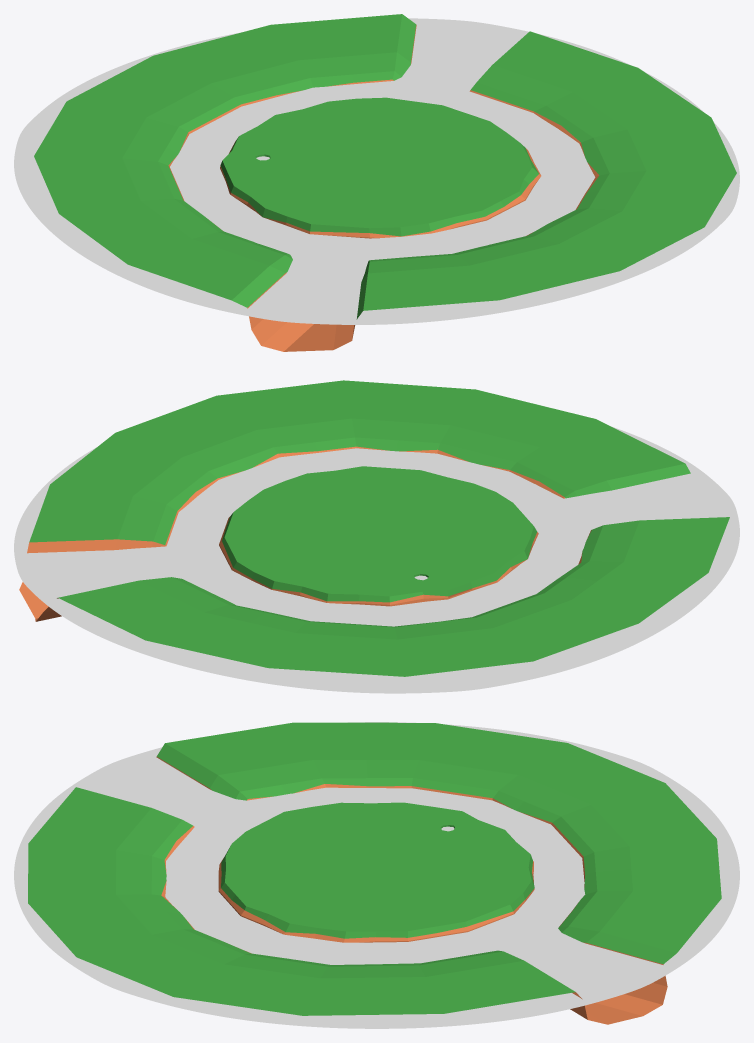
Rendered from World2.fbx.
3 views of the same model, one above another, from view 1: azimuth 30°, elevation 25°; view 2: azimuth 150°, elevation 25°; view 3: azimuth 270°, elevation 25° (orthographic). The views are drawn at different scales.
Parts seen in each view (by area): view 1: Plane.007, Plane.009; view 2: Plane.007, Plane.009; view 3: Plane.007, Plane.009.
Boxes of the visible parts, left/top/right/bottom form: Plane.007: left=34, top=14, right=736, bottom=351; Plane.009: left=14, top=18, right=739, bottom=324; Plane.007: left=19, top=380, right=729, bottom=676; Plane.009: left=14, top=426, right=739, bottom=693; Plane.007: left=28, top=722, right=721, bottom=1024; Plane.009: left=14, top=722, right=739, bottom=1028.
Bounding box in the file's own units: 47706 × 3161 × 47706.
